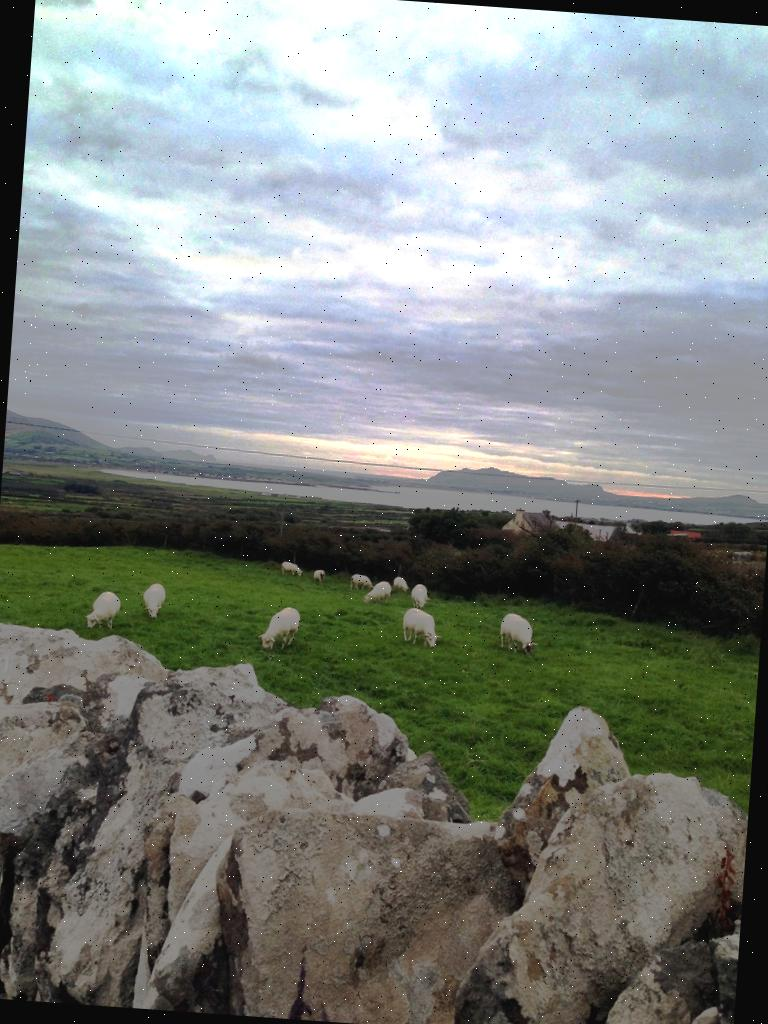Sheep: (247, 594, 320, 660), (81, 590, 124, 632), (401, 609, 443, 649), (500, 613, 538, 655), (140, 584, 170, 623), (360, 576, 391, 600), (410, 583, 429, 609), (348, 576, 375, 590), (284, 562, 304, 578), (392, 575, 408, 590), (314, 571, 325, 582), (326, 570, 334, 578)
